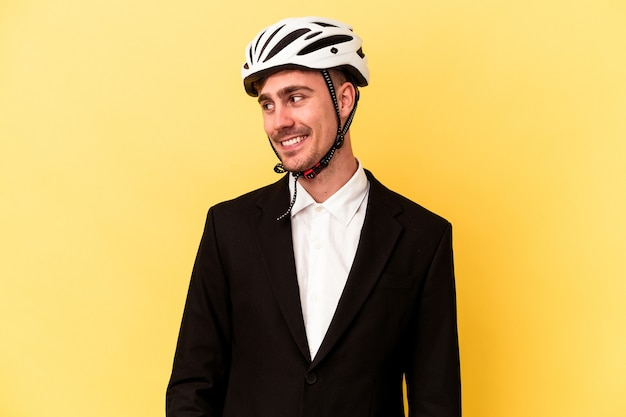helmet: (240, 17, 370, 172)
